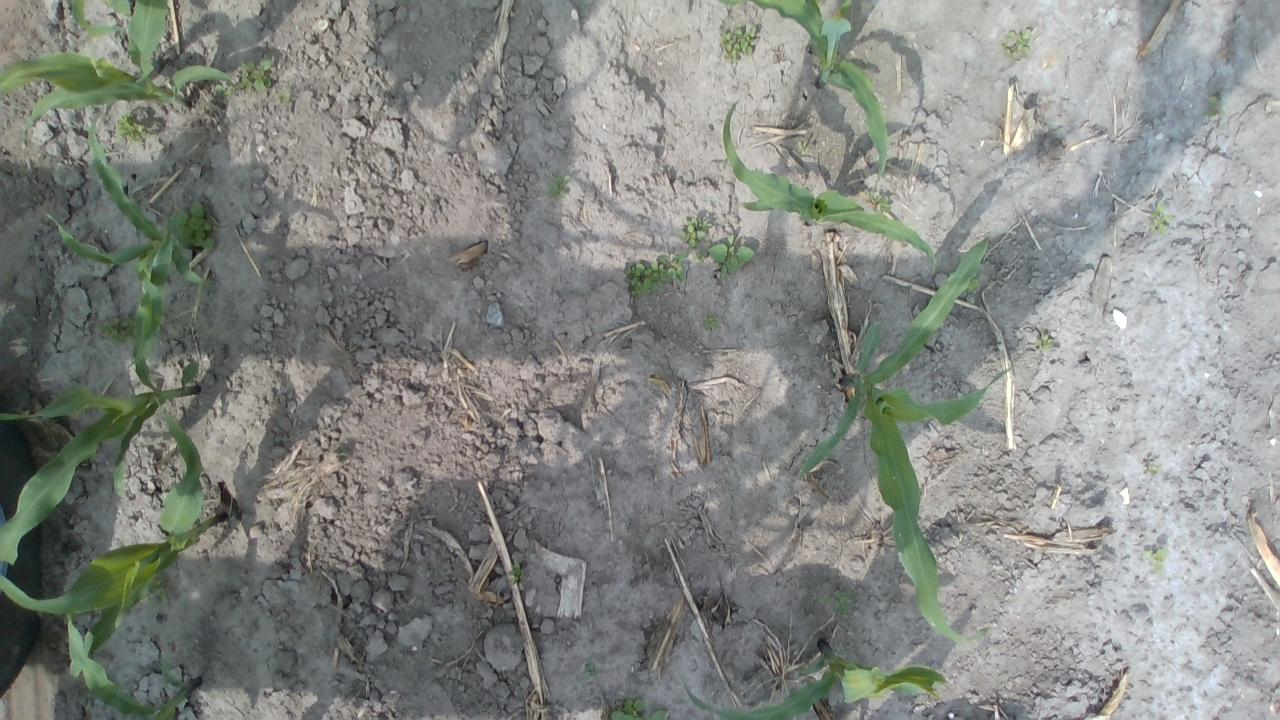Maize: (802, 237, 1009, 648), (0, 396, 224, 682), (0, 274, 200, 566), (46, 110, 212, 368), (722, 100, 938, 270), (0, 0, 241, 138), (714, 0, 890, 179), (682, 640, 948, 720), (64, 615, 204, 720), (69, 0, 133, 42)
Weeds: (628, 250, 689, 296), (170, 202, 218, 252), (709, 234, 756, 278), (720, 24, 761, 65), (610, 696, 669, 720), (94, 314, 138, 346), (236, 59, 274, 94), (1000, 30, 1036, 59), (116, 111, 146, 145), (144, 575, 174, 609), (681, 218, 712, 250), (818, 591, 854, 617), (1150, 205, 1176, 238), (1142, 546, 1168, 576), (548, 175, 573, 202), (864, 190, 891, 214), (508, 560, 528, 585), (1206, 94, 1226, 116), (964, 277, 986, 295), (216, 80, 235, 96), (839, 0, 856, 17), (583, 664, 601, 680), (1040, 334, 1056, 350), (703, 315, 721, 329), (694, 250, 709, 264), (277, 88, 290, 104), (1143, 464, 1160, 476), (796, 140, 808, 156)
